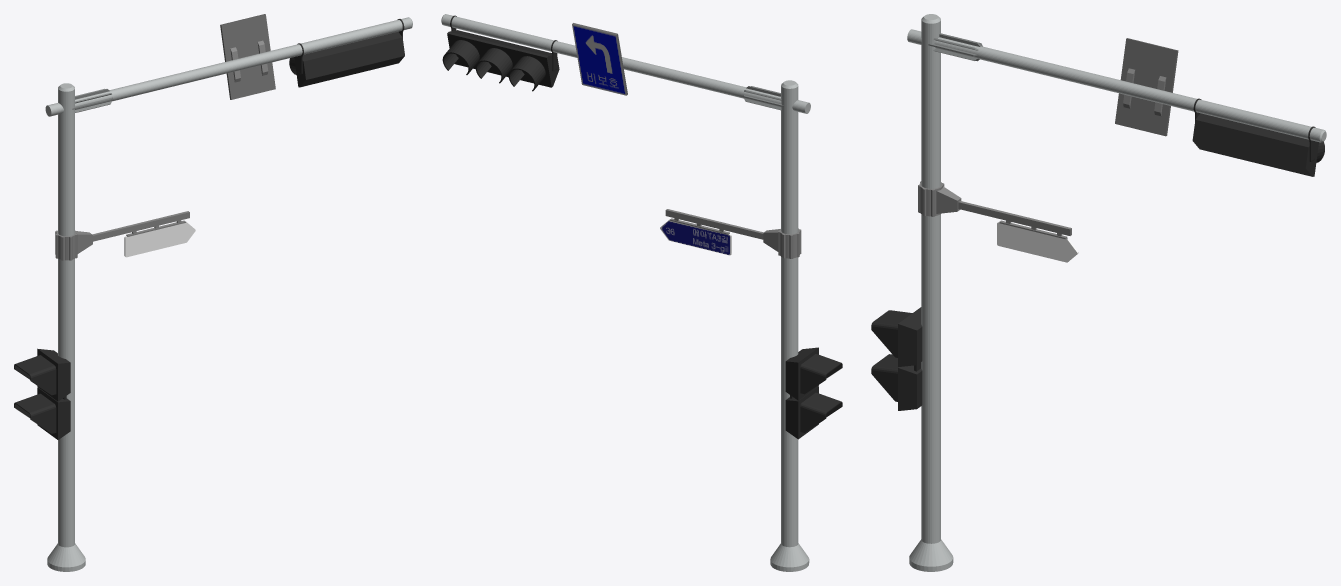
Rendered from TrafficLight.fbx.
3 views of the same model, side by side, from view 1: azimuth 30°, elevation 25°; view 2: azimuth 150°, elevation 25°; view 3: azimuth 330°, elevation 25° (orthographic). The views are drawn at different scales.
Visible parts, largest first — view 1: Cylinder, Cylinder.001, Cube.011, Cube, Cube.005, Cube.010, Cube.017, Cube.013, Cylinder.005; view 2: Cylinder, Cylinder.001, Cube, Cube.011, Cube.005, Cube.010, Cube.017, Cube.013, Circle.006, Circle.005, Circle.004, Cylinder.005; view 3: Cylinder, Cylinder.001, Cube.011, Cube, Cube.005, Cube.010, Cube.013, Cube.017, Cylinder.005.
Part boxes in pixels (left/top/right/bottom): Cylinder: left=47, top=83, right=85, bottom=571; Cylinder.001: left=45, top=17, right=412, bottom=116; Cube.011: left=294, top=32, right=404, bottom=87; Cube: left=220, top=14, right=275, bottom=99; Cube.005: left=14, top=348, right=70, bottom=401; Cube.010: left=14, top=387, right=70, bottom=439; Cube.017: left=124, top=222, right=195, bottom=257; Cube.013: left=76, top=211, right=189, bottom=253; Cylinder.005: left=55, top=230, right=77, bottom=260; Cylinder: left=770, top=80, right=809, bottom=571; Cylinder.001: left=441, top=14, right=810, bottom=113; Cube: left=572, top=23, right=627, bottom=95; Cube.011: left=447, top=30, right=559, bottom=87; Cube.005: left=785, top=347, right=842, bottom=400; Cube.010: left=785, top=386, right=842, bottom=439; Cube.017: left=660, top=220, right=731, bottom=255; Cube.013: left=665, top=209, right=779, bottom=251; Circle.006: left=508, top=56, right=545, bottom=91; Circle.005: left=475, top=48, right=512, bottom=83; Circle.004: left=442, top=40, right=479, bottom=74; Cylinder.005: left=778, top=228, right=801, bottom=258; Cylinder: left=909, top=14, right=953, bottom=571; Cylinder.001: left=907, top=29, right=1326, bottom=142; Cube.011: left=1192, top=113, right=1318, bottom=176; Cube: left=1115, top=38, right=1178, bottom=136; Cube.005: left=871, top=307, right=922, bottom=366; Cube.010: left=871, top=354, right=922, bottom=410; Cube.013: left=936, top=186, right=1071, bottom=239; Cube.017: left=997, top=222, right=1078, bottom=262; Cylinder.005: left=918, top=181, right=944, bottom=216.
Size of the model in its own units: 3486 by 4230 by 425.
